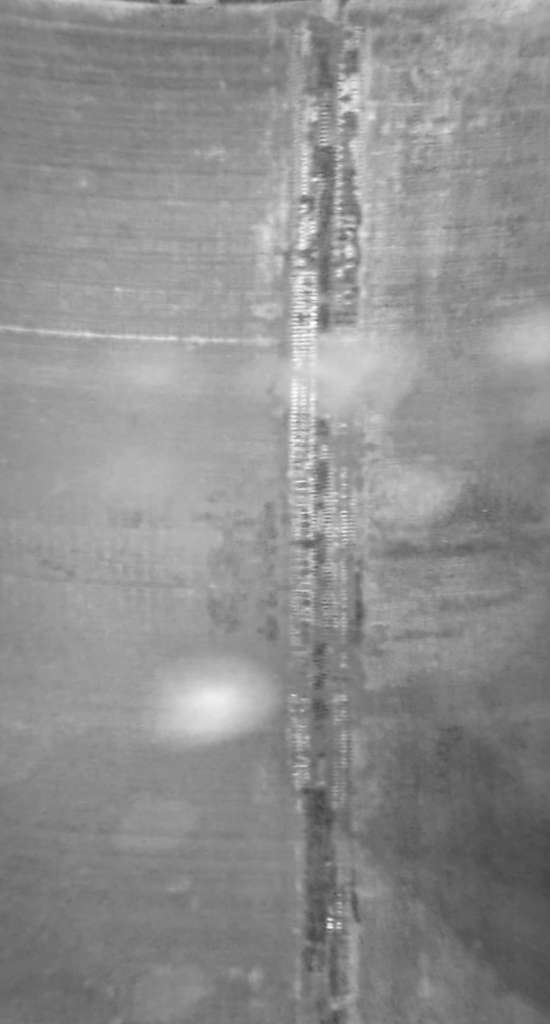splice: (284, 3, 371, 1024)
